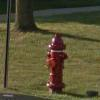Hydrant: (44, 26, 70, 99)
